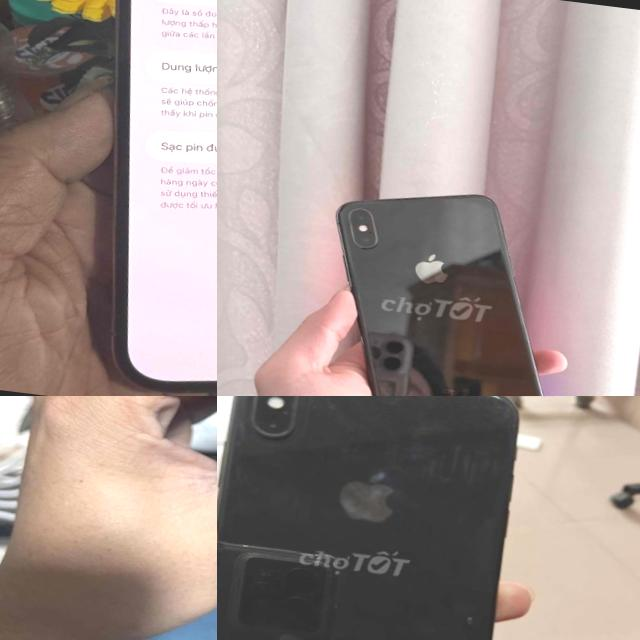scratch: (249, 396, 420, 416), (468, 396, 530, 436), (454, 600, 481, 632)
